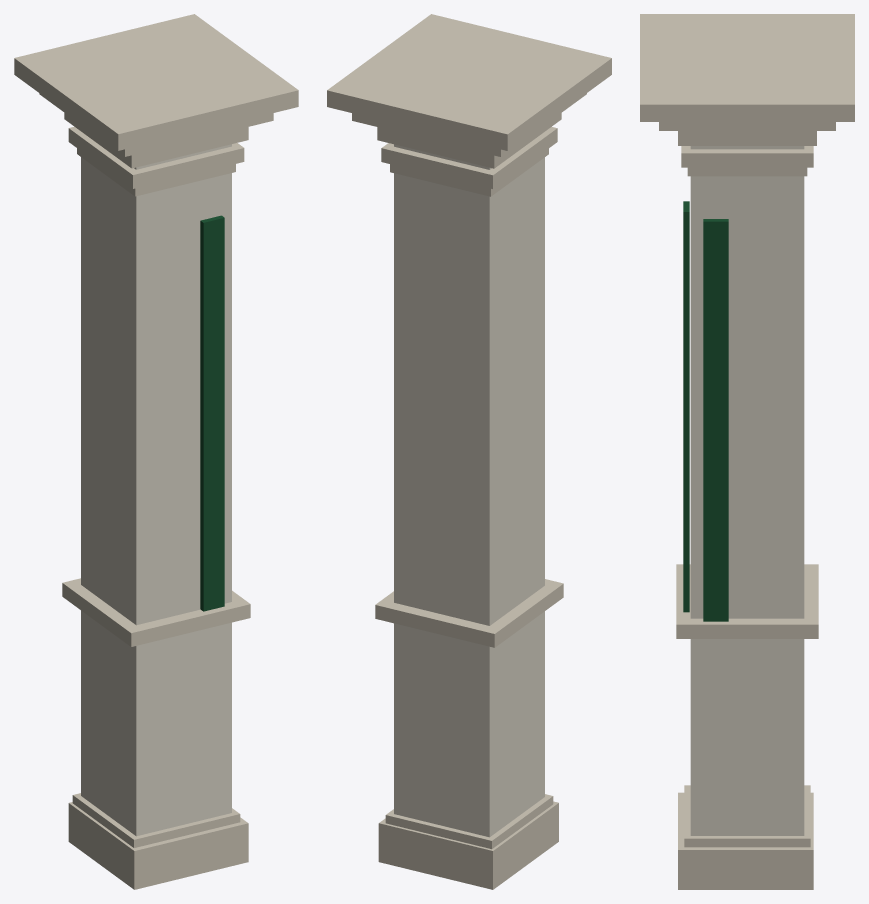
Rendered from PROP_WallCorner.fbx.
The picture shows the model from 3 angles, left to right: view 1: azimuth 30°, elevation 25°; view 2: azimuth 150°, elevation 25°; view 3: azimuth 270°, elevation 25°; orthographic projection. The views are drawn at different scales.
Visible parts, largest first — view 1: PROP_WallCorner; view 2: PROP_WallCorner; view 3: PROP_WallCorner.
Boxes of the visible parts, x1,y1,x2,y2 form: PROP_WallCorner: (14,14,298,889); PROP_WallCorner: (327,14,611,889); PROP_WallCorner: (640,14,854,889).
Size of the model in its own units: 0.68 by 2.8 by 0.68.
